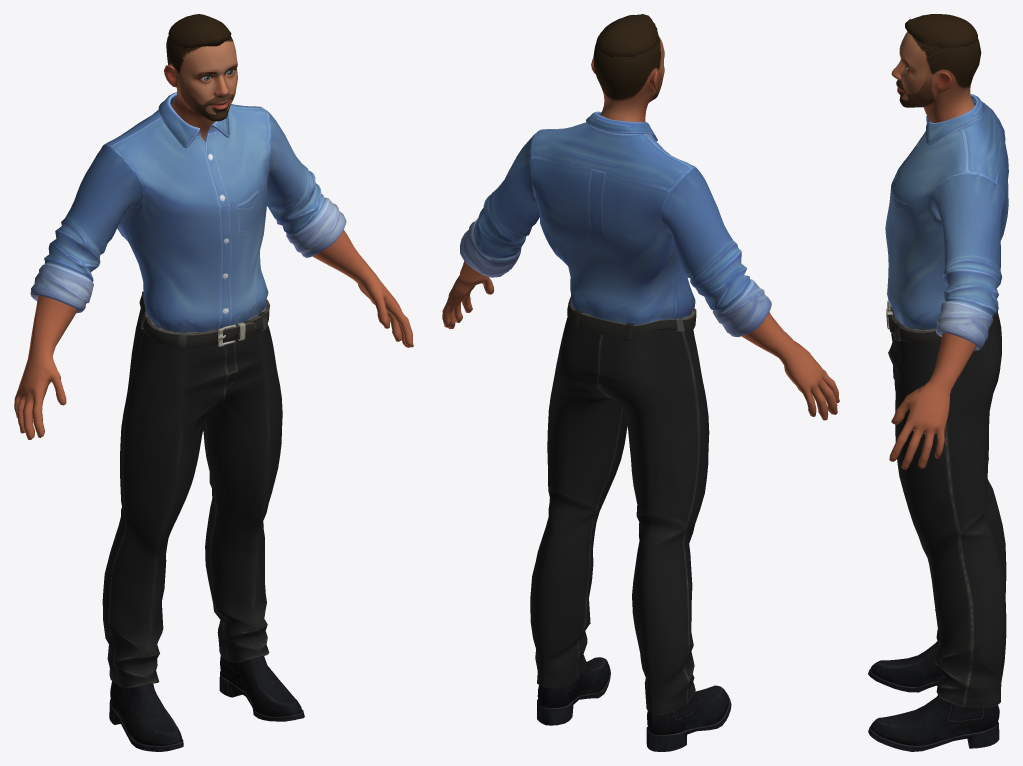
The model's file is Balancing of Tools .glb.
3 renders of one model, left to right at view 1: azimuth 30°, elevation 25°; view 2: azimuth 150°, elevation 25°; view 3: azimuth 270°, elevation 25°, orthographic.
Parts seen in each view (by area): view 1: Wolf3D_Avatar; view 2: Wolf3D_Avatar; view 3: Wolf3D_Avatar.
Boxes of the visible parts, x1,y1,x2,y2 form: Wolf3D_Avatar: (14,14,413,751); Wolf3D_Avatar: (442,14,839,751); Wolf3D_Avatar: (868,14,1008,751).
Bounding box in the file's own units: 1.06 × 1.84 × 0.3371.
Materials: 1 (1 with a texture image).
